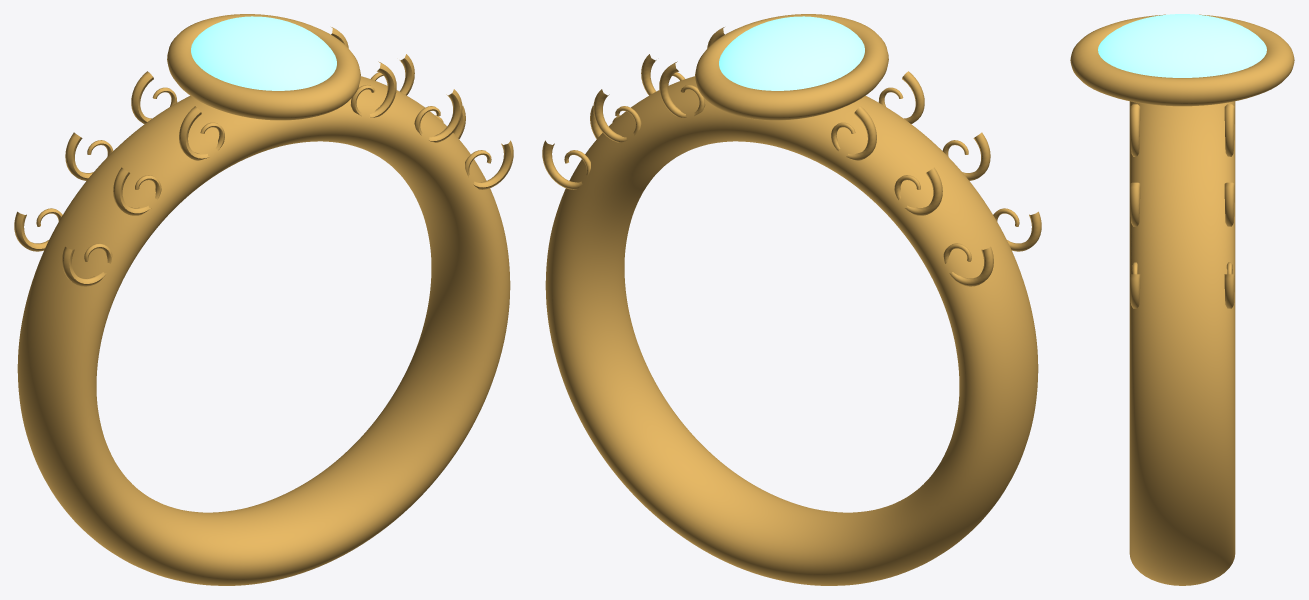
Rendered from ring-filigree.glb.
3 renders of one model, left to right at view 1: azimuth 30°, elevation 25°; view 2: azimuth 150°, elevation 25°; view 3: azimuth 270°, elevation 25°, orthographic.
Visible parts, largest first — view 1: band, cabochon, filigree, bezel; view 2: band, cabochon, filigree, bezel; view 3: band, cabochon, bezel, filigree.
Boxes of the visible parts, left/top/right/bottom form: band: left=17, top=76, right=510, bottom=585; cabochon: left=191, top=16, right=336, bottom=90; filigree: left=14, top=27, right=513, bottom=286; bezel: left=167, top=14, right=360, bottom=120; band: left=545, top=76, right=1038, bottom=585; cabochon: left=719, top=16, right=864, bottom=90; filigree: left=542, top=27, right=1041, bottom=286; bezel: left=695, top=14, right=888, bottom=120; band: left=1129, top=101, right=1235, bottom=585; cabochon: left=1098, top=14, right=1266, bottom=77; bezel: left=1070, top=14, right=1294, bottom=106; filigree: left=1130, top=104, right=1234, bottom=308.
Size of the model in its own units: 1.14 by 1.25 by 0.475.
